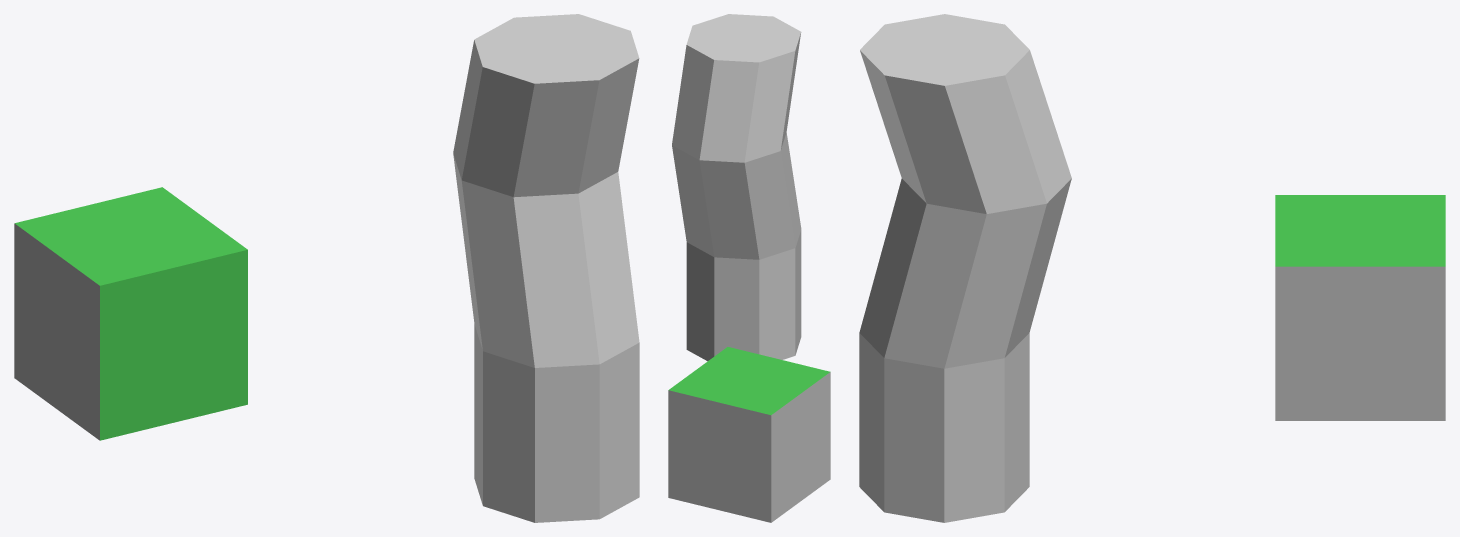
Rendered from trex.fbx.
The picture shows the model from 3 angles, left to right: view 1: azimuth 30°, elevation 25°; view 2: azimuth 150°, elevation 25°; view 3: azimuth 270°, elevation 25°; orthographic projection. The views are drawn at different scales.
Visible parts, largest first — view 1: tree, Cube; view 2: tree, Cube; view 3: tree, Cube.
Boxes of the visible parts, x1,y1,x2,y2 form: tree: (453,14,639,522); Cube: (14,187,247,440); tree: (672,14,801,361); Cube: (668,347,830,522); tree: (859,14,1071,522); Cube: (1275,195,1445,420).
Bounding box in the file's own units: 493 × 571 × 689.
